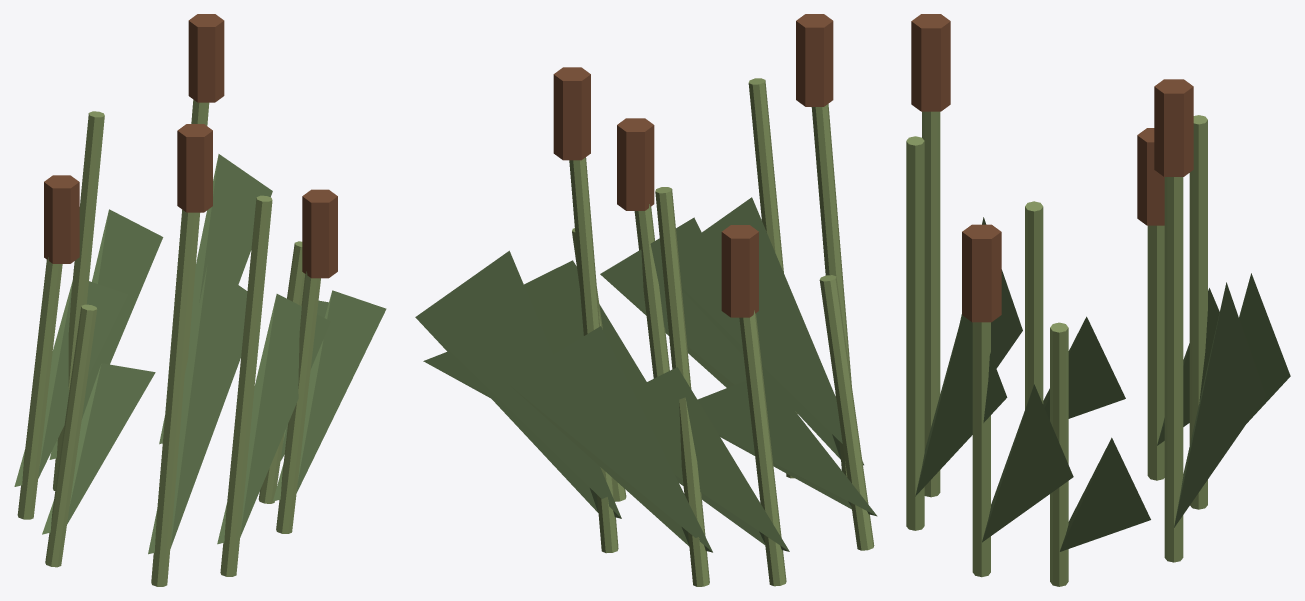
The model's file is reeds.glb.
The picture shows the model from 3 angles, left to right: view 1: azimuth 30°, elevation 25°; view 2: azimuth 150°, elevation 25°; view 3: azimuth 270°, elevation 25°; orthographic projection. The views are drawn at different scales.
Visible parts, largest first — view 1: reeds; view 2: reeds; view 3: reeds.
Part boxes in pixels (x1,y1,x2,y2): reeds: (14,14,386,586); reeds: (415,14,877,586); reeds: (906,14,1290,586).
Bounding box in the file's own units: 0.7386 × 0.8271 × 0.5856.
